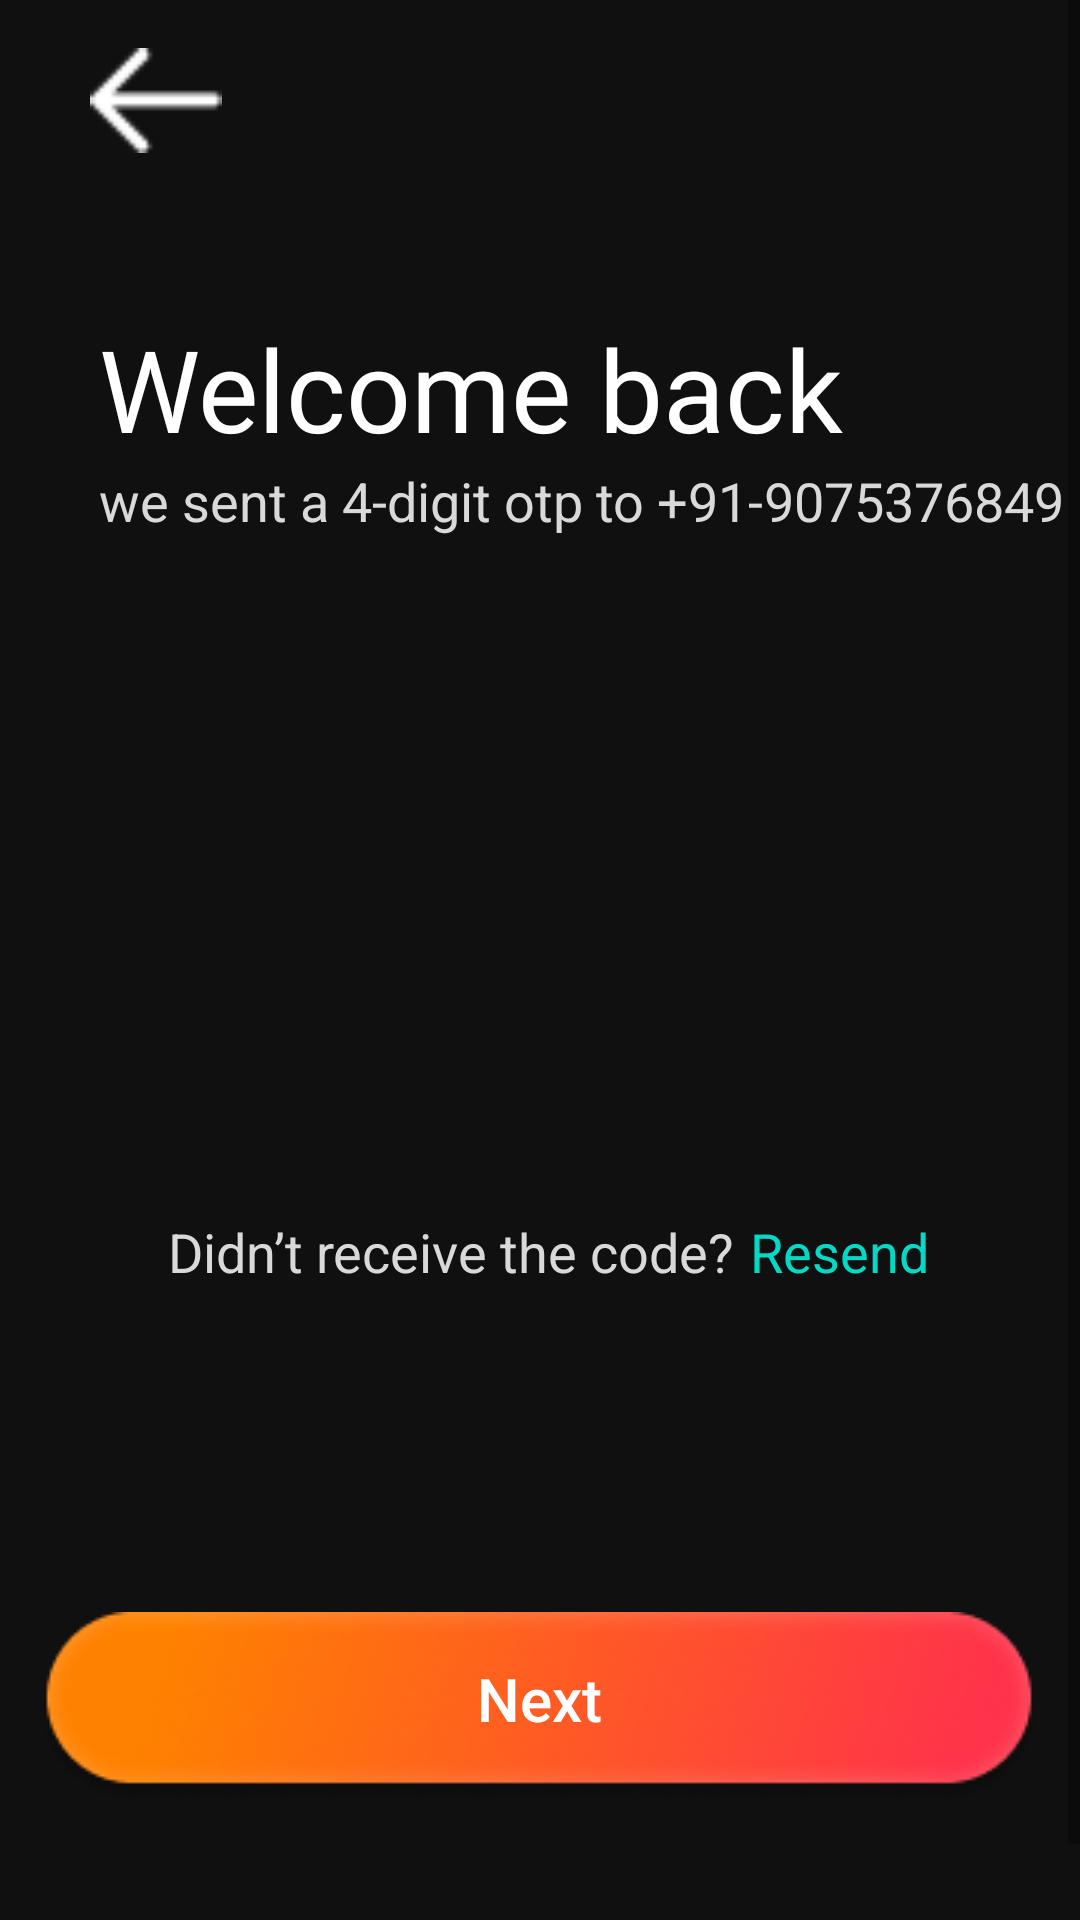

Named icons in this screenshot (1080 × 1920) and their bounding boxes, [x1, y1, x2, y2]:
back arrow: [90, 48, 222, 153]
